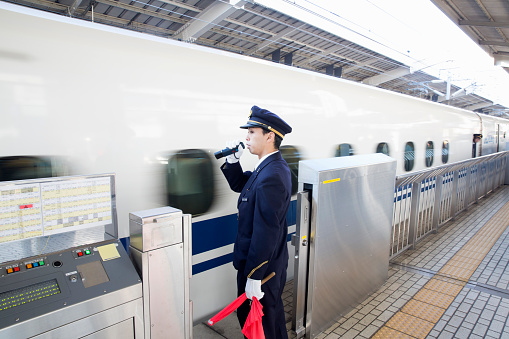em pe: (215, 105, 293, 339)
